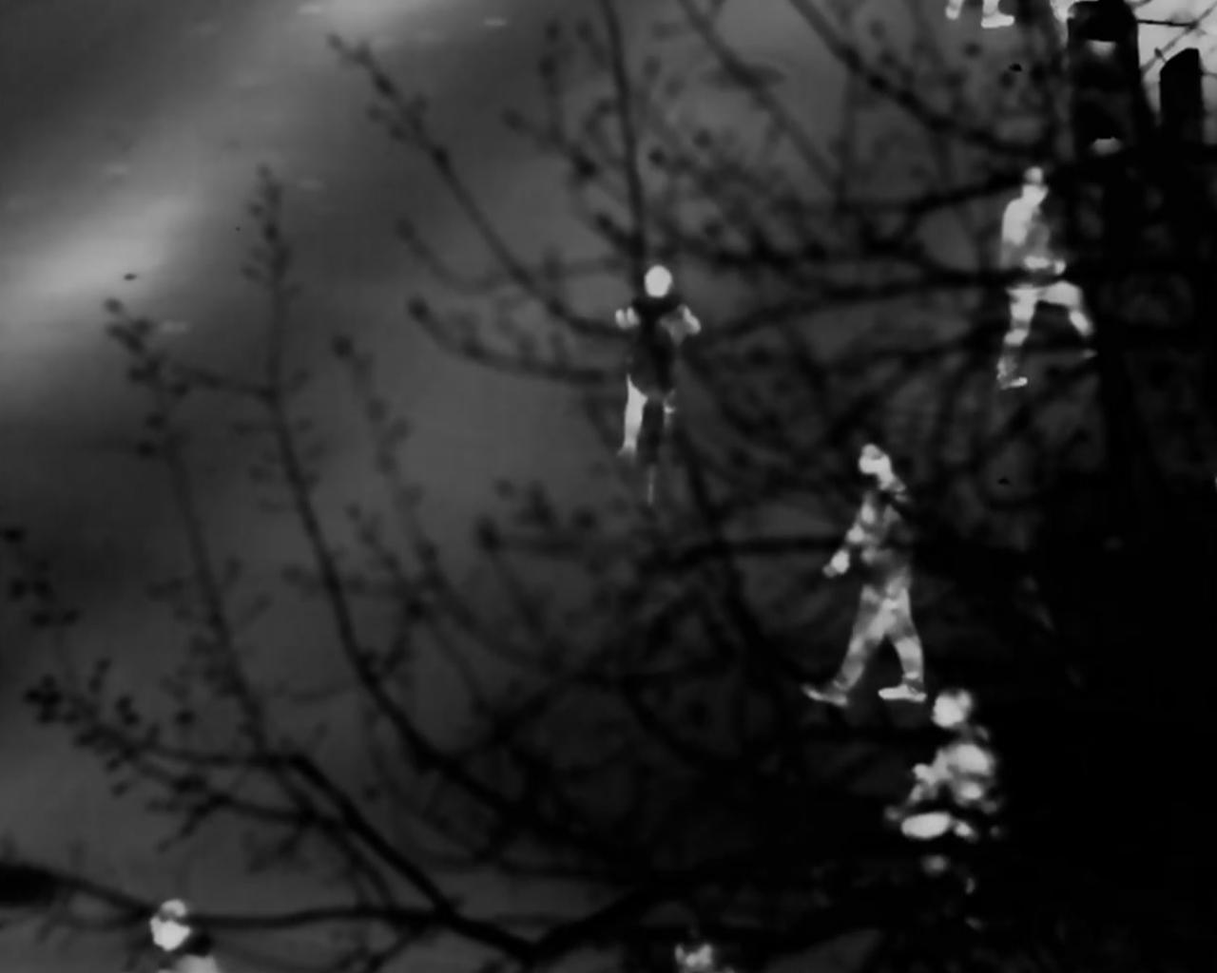person: (807, 441, 932, 694), (992, 162, 1105, 391), (607, 273, 716, 494), (899, 680, 998, 873), (134, 902, 231, 973)
